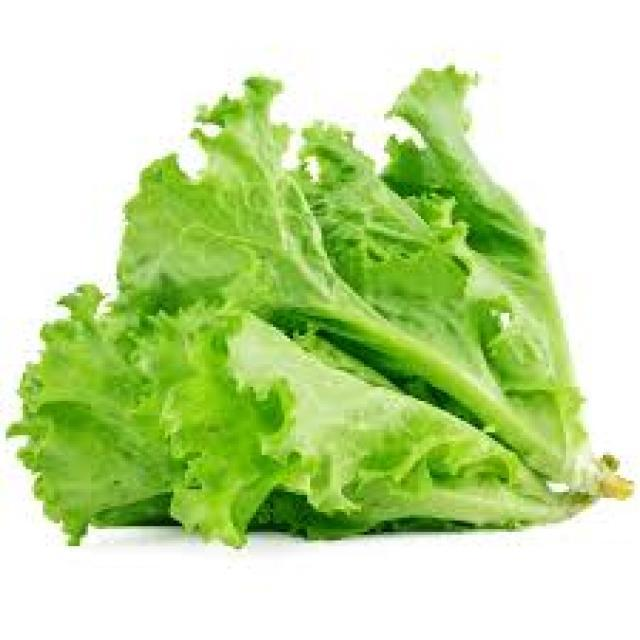Lettuce: (20, 63, 633, 535)
